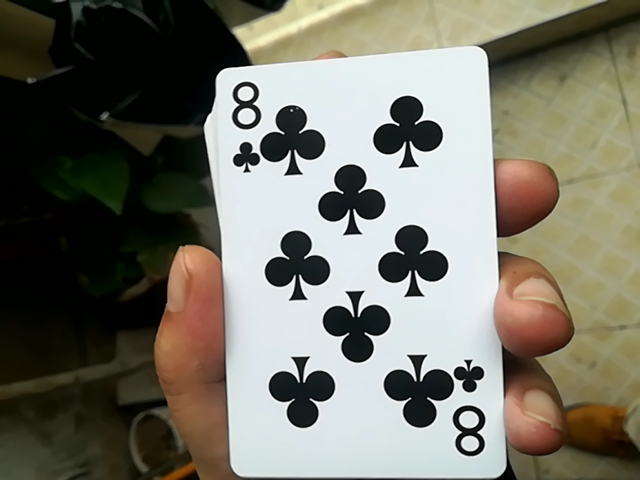mh 8: (204, 54, 514, 477)
